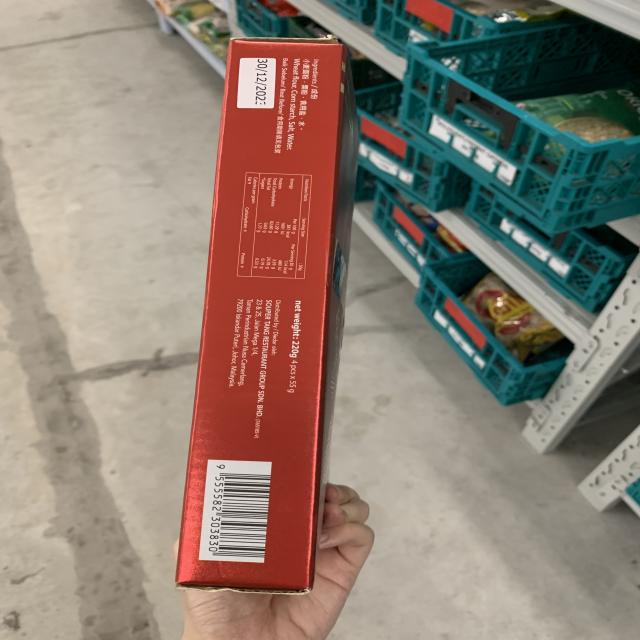object_name: (218, 37, 325, 583)
